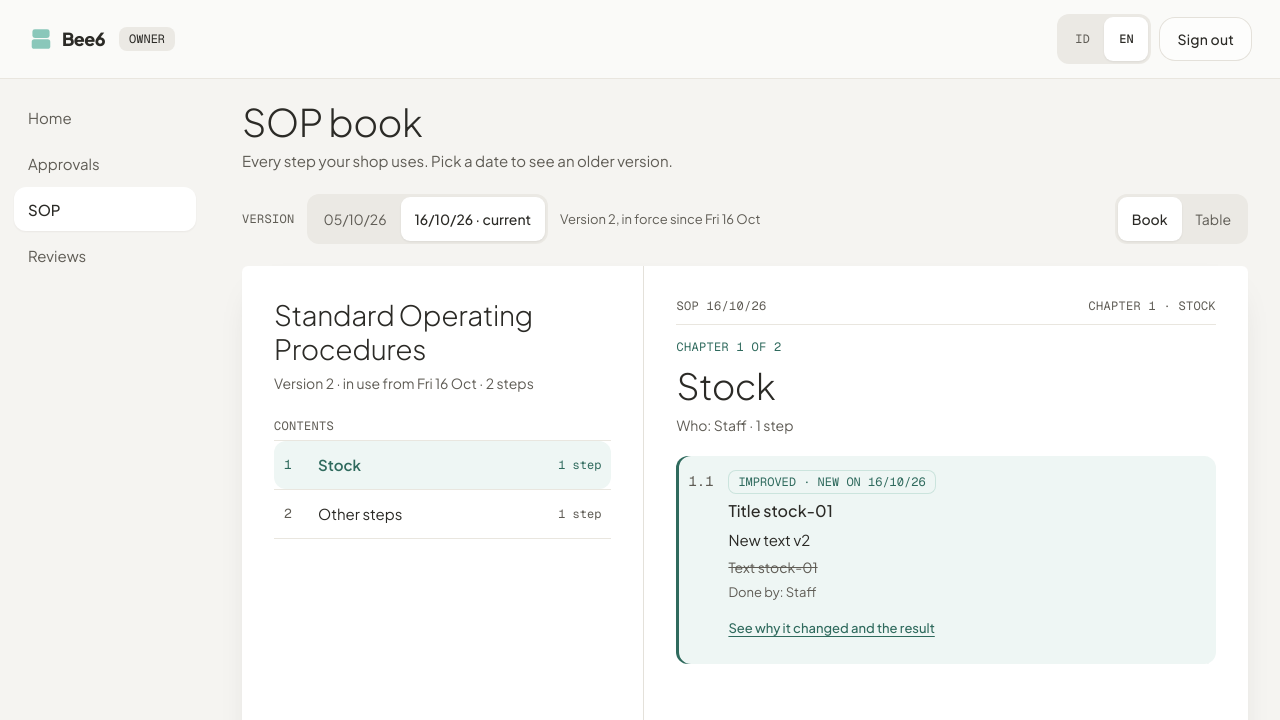
it: SopApp version switch (R-19 PR-9a §9.1) › switching to the first version shows its steps with the old wording and no badge
The image size is (1280, 720).
Click the button "05/10/26" at (355, 219), box x1=310 y1=197 x2=401 y2=241
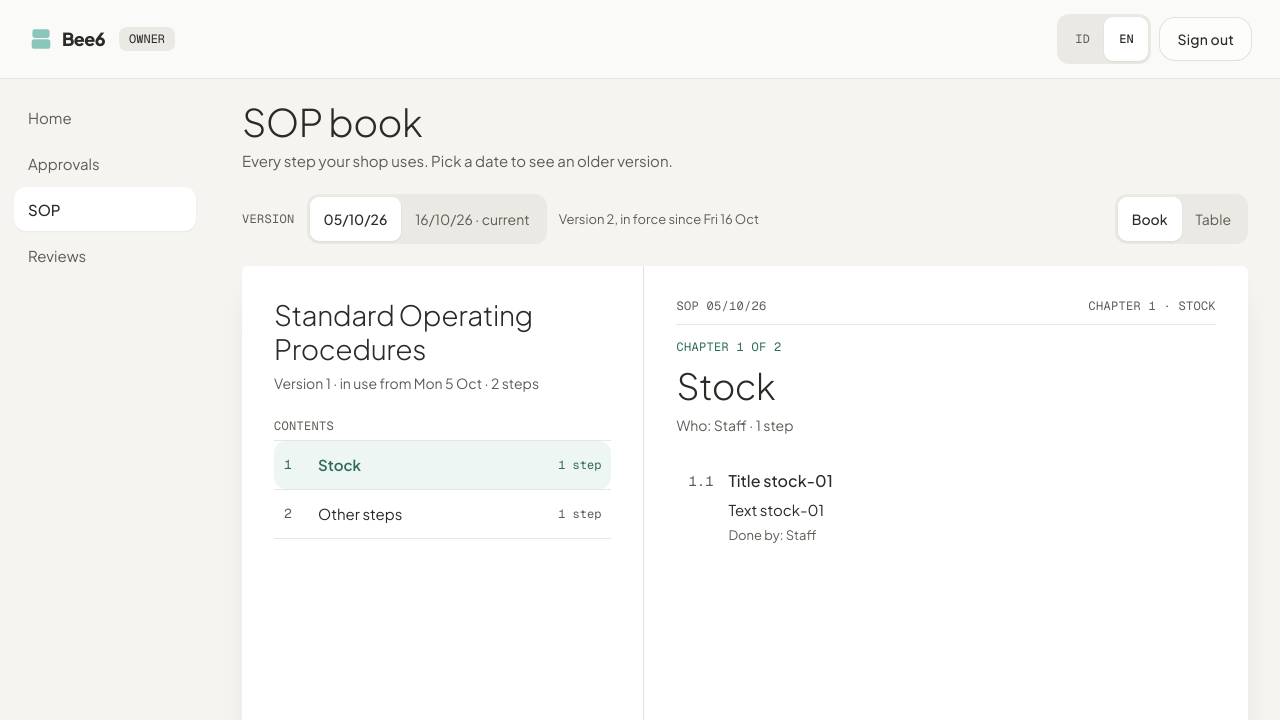
Expected: the list item "1.1 Title stock-01 Text stock-01 Done by: Staff" is shown, x1=688 y1=470 x2=833 y2=543
Expected: the text "NEW ON" is gone
Expected: the text "New text v2" is gone
